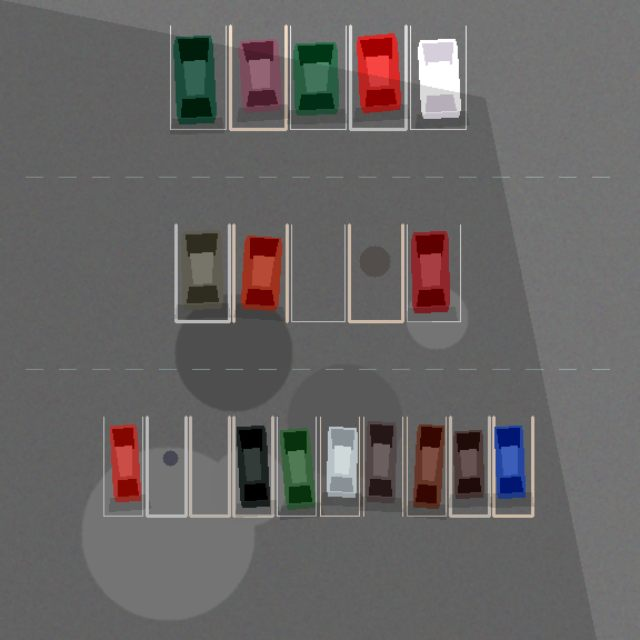space-empty: (291, 224, 344, 321), (349, 224, 402, 321), (147, 417, 186, 516), (190, 417, 229, 516)
space-occupied: (170, 26, 226, 129), (230, 26, 286, 129), (290, 26, 346, 129), (350, 26, 406, 129), (410, 26, 466, 129), (233, 224, 287, 321), (176, 224, 229, 321), (407, 224, 460, 321), (103, 417, 142, 516), (233, 417, 272, 516), (277, 417, 316, 516), (320, 417, 359, 516), (363, 417, 402, 516), (407, 417, 446, 516), (450, 417, 489, 516), (493, 417, 532, 516)
